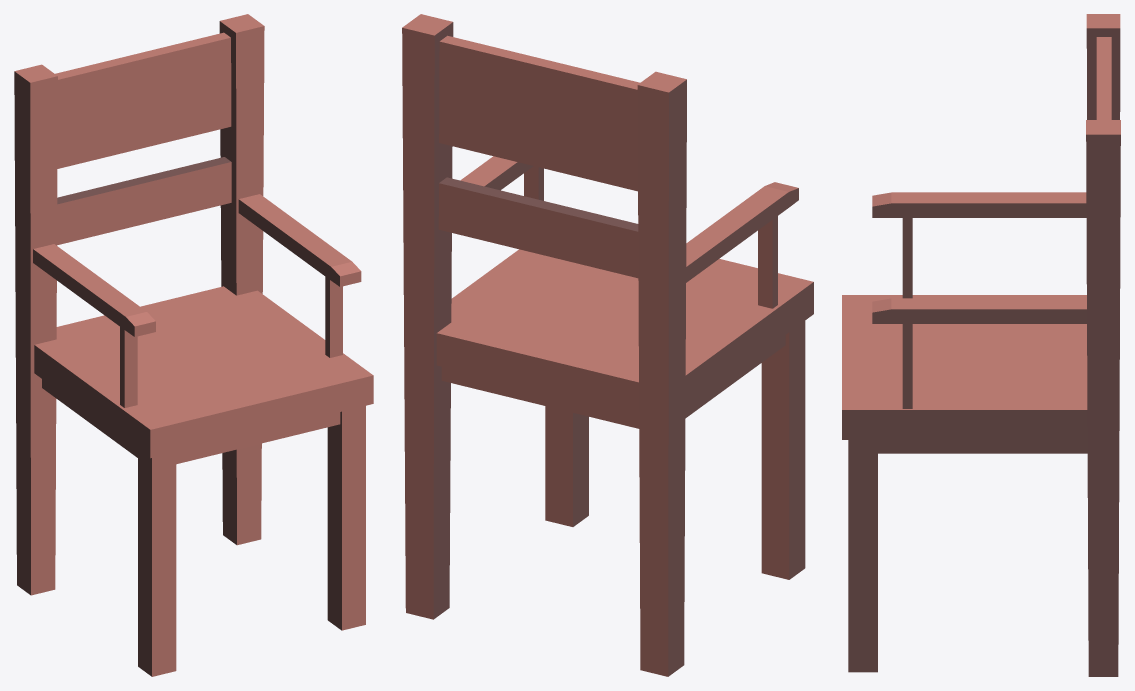
Rendered from Chair  Master.fbx.
The picture shows the model from 3 angles, left to right: view 1: azimuth 30°, elevation 25°; view 2: azimuth 150°, elevation 25°; view 3: azimuth 270°, elevation 25°; orthographic projection. The views are drawn at different scales.
Parts seen in each view (by area): view 1: Chair Master; view 2: Chair Master; view 3: Chair Master.
Boxes of the visible parts, x1=… form: Chair Master: x1=14, y1=14, x2=373, y2=676; Chair Master: x1=402, y1=14, x2=813, y2=676; Chair Master: x1=842, y1=14, x2=1120, y2=676.
Size of the model in its own units: 100 by 210 by 97.68.
